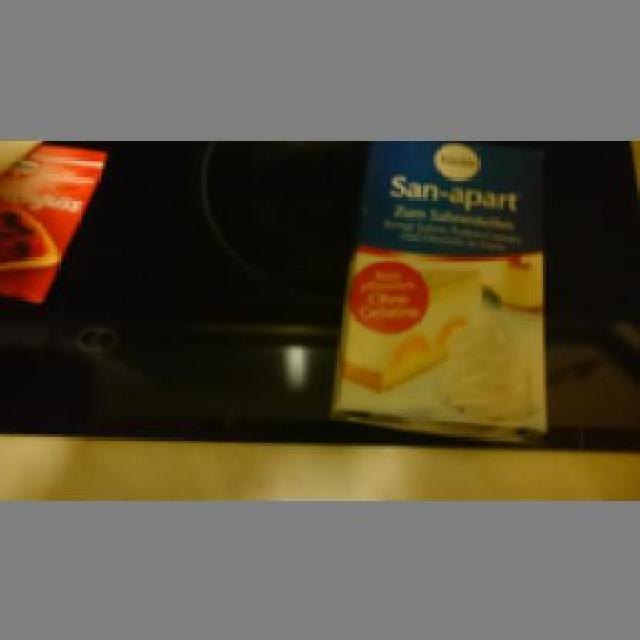Cake: (328, 131, 558, 440)
